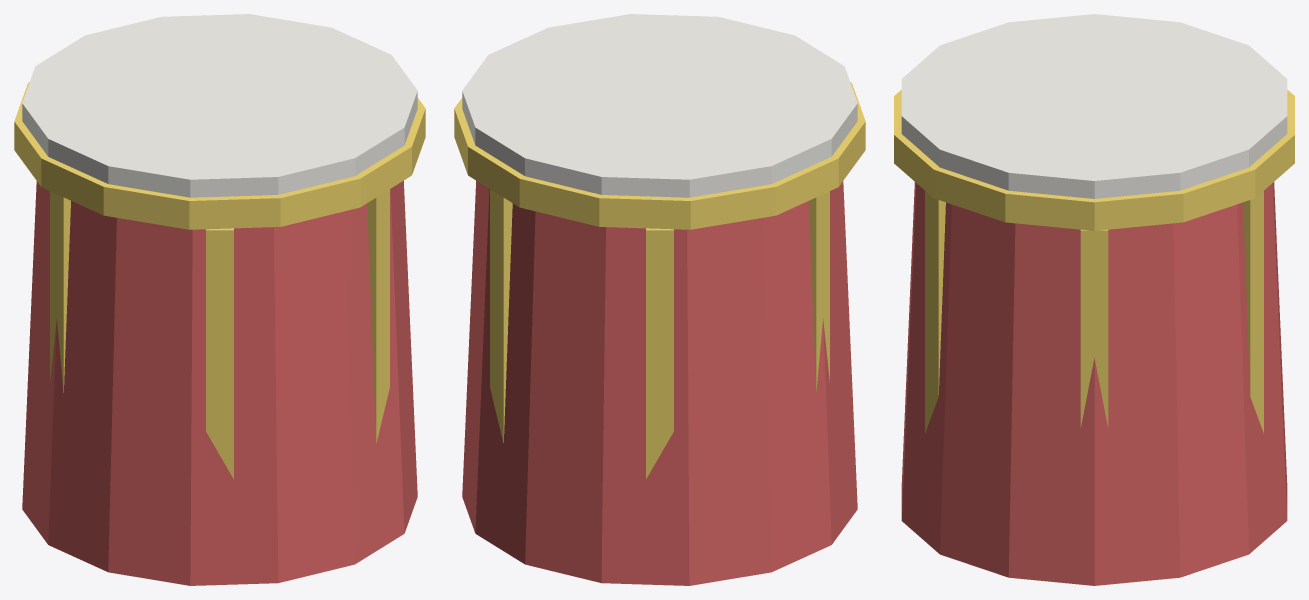
File: travelling-circus-and-big-top-circus-pedestal-tall-c000d9f9__36254.glb
The picture shows the model from 3 angles, left to right: view 1: azimuth 30°, elevation 25°; view 2: azimuth 150°, elevation 25°; view 3: azimuth 270°, elevation 25°; orthographic projection.
Visible parts, largest first — view 1: circus-pedestal-tall-stripe, circus-pedestal-tall-canvas, circus-pedestal-tall-gold; view 2: circus-pedestal-tall-stripe, circus-pedestal-tall-canvas, circus-pedestal-tall-gold; view 3: circus-pedestal-tall-stripe, circus-pedestal-tall-canvas, circus-pedestal-tall-gold.
Boxes of the visible parts, box(x1,y1,x2,y2) form: circus-pedestal-tall-stripe: box(22, 180, 417, 585); circus-pedestal-tall-canvas: box(22, 14, 417, 197); circus-pedestal-tall-gold: box(14, 82, 425, 478); circus-pedestal-tall-stripe: box(462, 180, 857, 585); circus-pedestal-tall-canvas: box(462, 14, 857, 197); circus-pedestal-tall-gold: box(454, 82, 865, 478); circus-pedestal-tall-stripe: box(901, 182, 1287, 585); circus-pedestal-tall-canvas: box(901, 14, 1287, 198); circus-pedestal-tall-gold: box(894, 90, 1294, 433).
Size of the model in its own units: 1.04 by 1.13 by 1.01.
